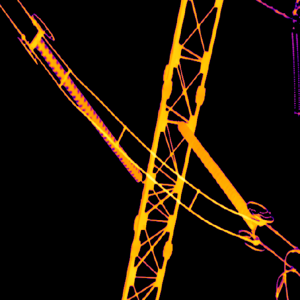insulator: (36, 39, 142, 182), (178, 120, 255, 226)
